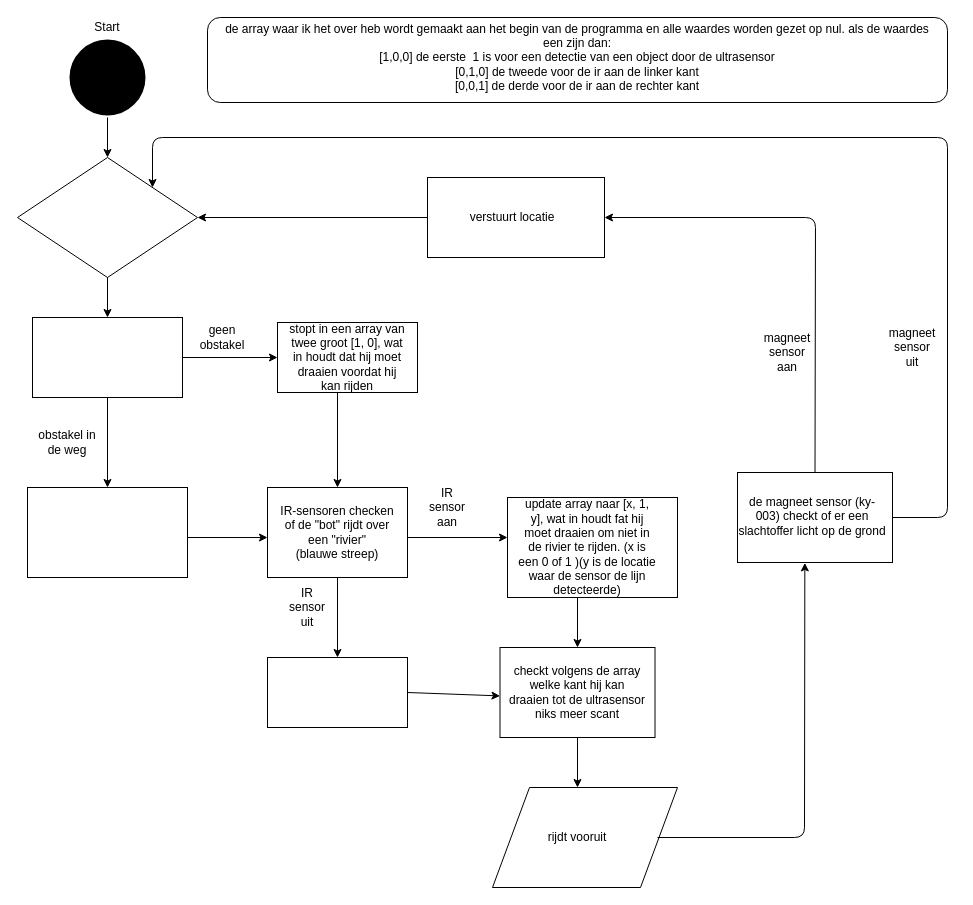
The diagram is 973 pixels wide and 905 high, and some of its shapes have lost their labels. Here are the shapes that lost their labels. From the top down, the centre of each, then its label:
the point at 107,217: void loop()
the point at 107,357: scant omgeving met de ultrasone sensor. voor een obstakel
the point at 107,532: stopt in een array van twee groot [0,0,0]
the point at 337,692: update array niet
